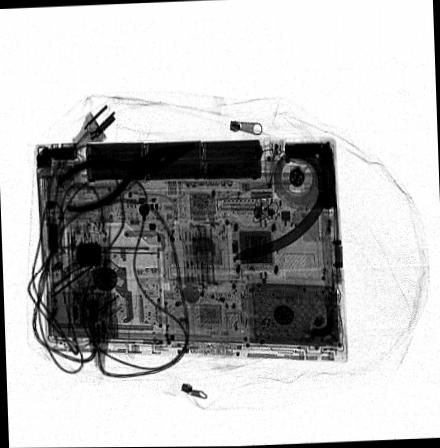Pliers: (55, 140, 196, 211)
